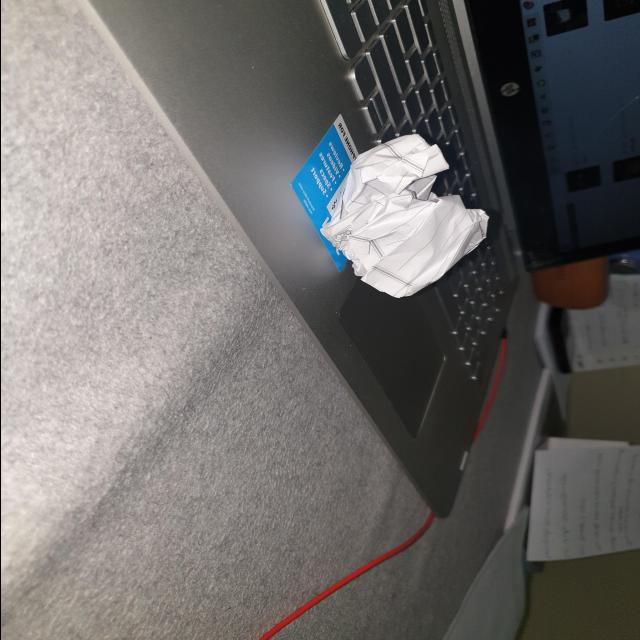kertas: (318, 128, 502, 300)
